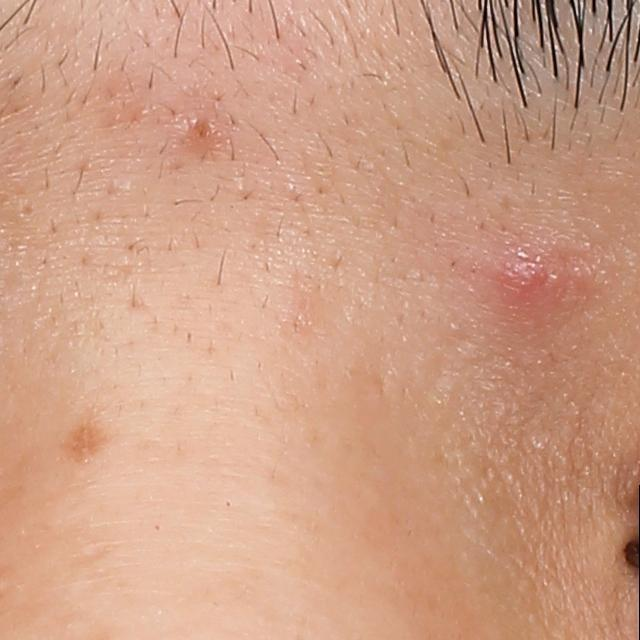melasma: (53, 413, 114, 464)
papule: (487, 247, 558, 313)
